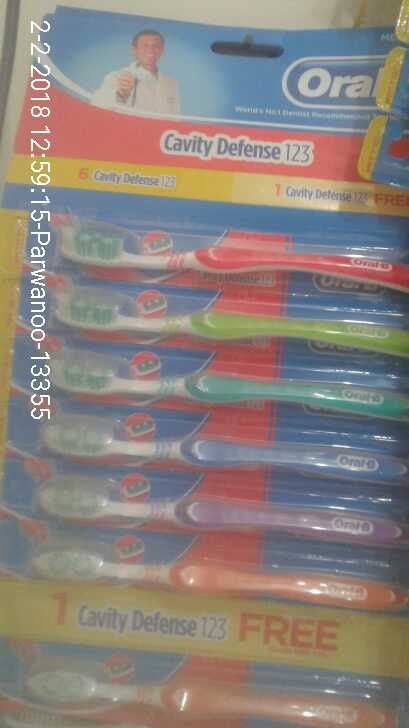oralb: (33, 539, 409, 644), (18, 475, 409, 564), (53, 209, 409, 301), (50, 282, 409, 367), (35, 413, 409, 492)
